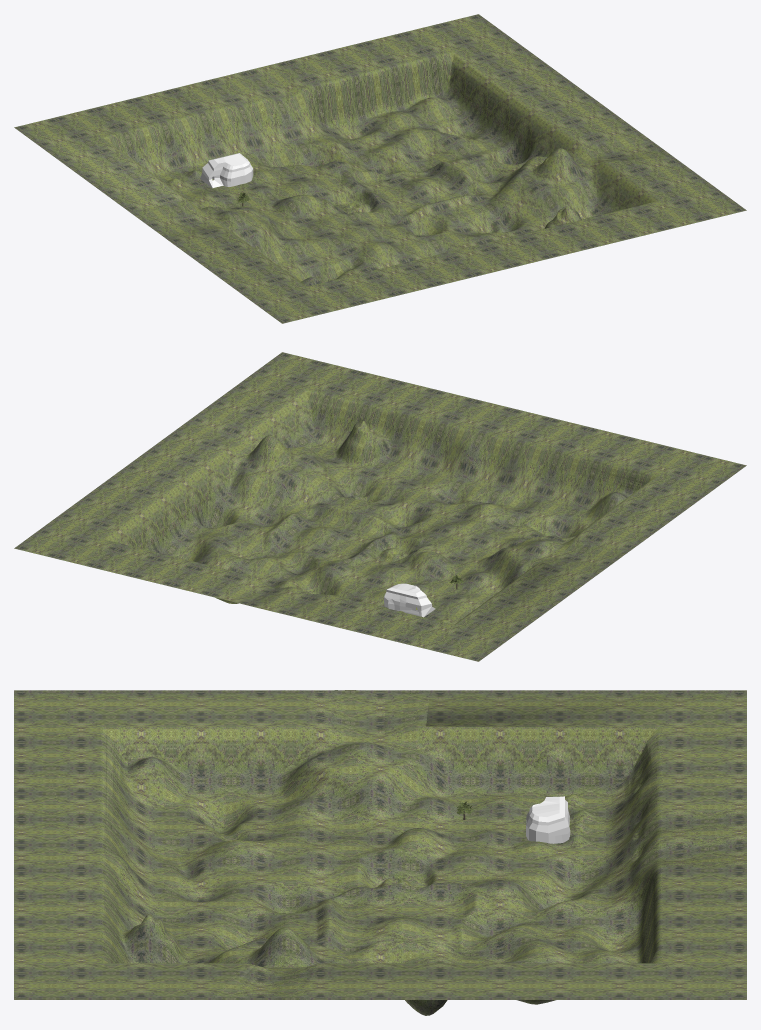
File: landscape.fbx
3 views of the same model, one above another, from view 1: azimuth 30°, elevation 25°; view 2: azimuth 150°, elevation 25°; view 3: azimuth 270°, elevation 25° (orthographic). The views are drawn at different scales.
Parts seen in each view (by area): view 1: Grid, walls; view 2: Grid, walls; view 3: Grid, walls.
Boxes of the visible parts, x1,y1,x2,y2 form: Grid: [14, 14, 746, 323]; walls: [200, 153, 253, 188]; Grid: [14, 352, 746, 661]; walls: [384, 583, 435, 617]; Grid: [14, 690, 746, 1015]; walls: [526, 796, 570, 843].
Size of the model in its own units: 26645 by 3413 by 26645.
